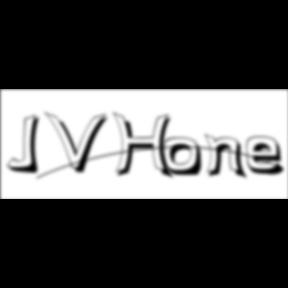H: (113, 112, 179, 182)
J: (8, 114, 46, 176)
V: (46, 110, 112, 176)
n: (204, 132, 252, 181)
o: (163, 137, 205, 179)
